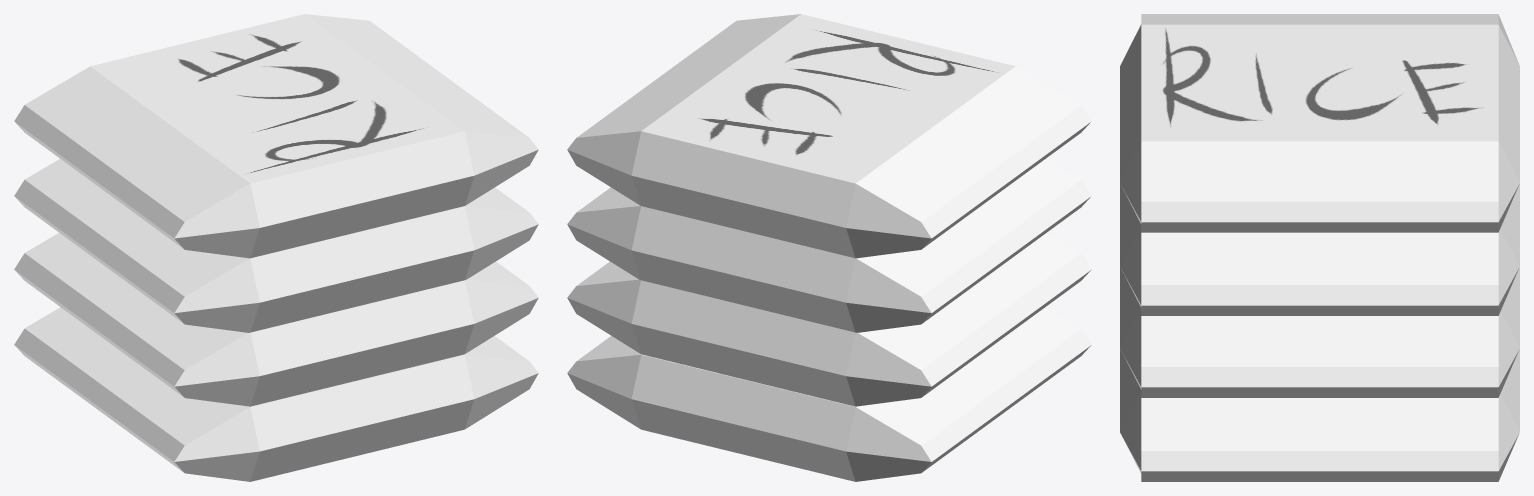
Rendered from Rice.fbx.
The picture shows the model from 3 angles, left to right: view 1: azimuth 30°, elevation 25°; view 2: azimuth 150°, elevation 25°; view 3: azimuth 270°, elevation 25°; orthographic projection. The views are drawn at different scales.
Visible parts, largest first — view 1: Cube; view 2: Cube; view 3: Cube.
Boxes of the visible parts, box(x1,y1,x2,y2) form: Cube: box(14, 14, 538, 481); Cube: box(567, 14, 1091, 481); Cube: box(1120, 14, 1519, 481).
Size of the model in its own units: 681 by 533 by 580.
